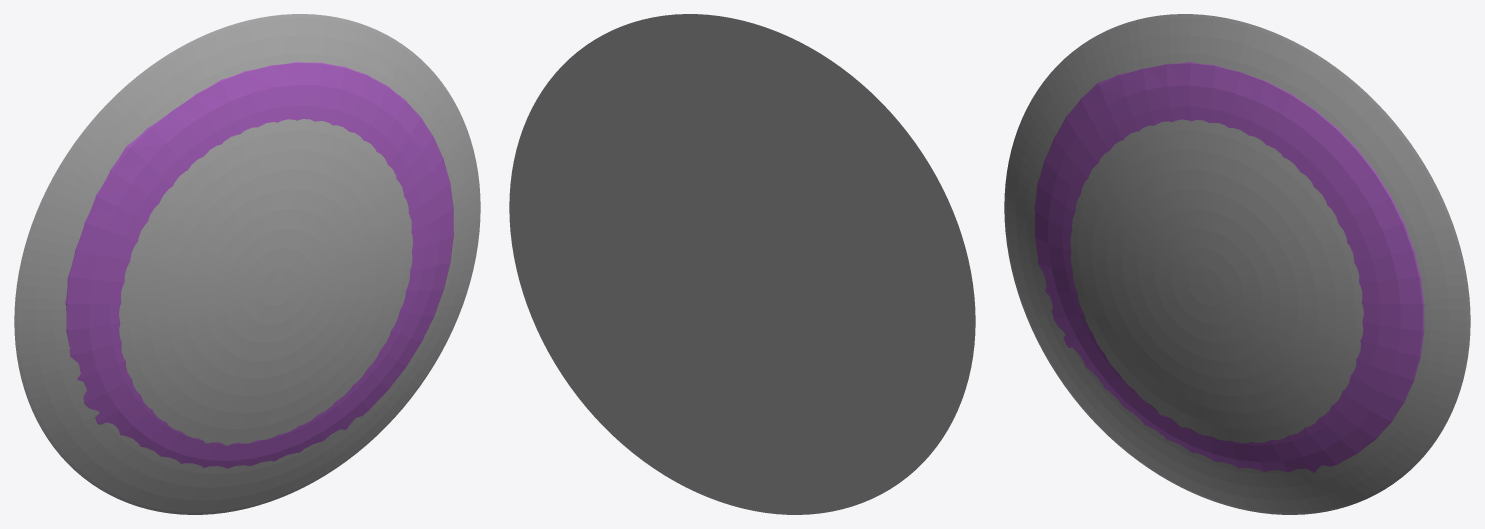
Rendered from G06_A2D_ALIGNED_GT.glb.
The picture shows the model from 3 angles, left to right: view 1: azimuth 30°, elevation 25°; view 2: azimuth 150°, elevation 25°; view 3: azimuth 330°, elevation 25°; orthographic projection.
Parts seen in each view (by area): view 1: Independent_GT, A2D; view 2: Independent_GT; view 3: Independent_GT, A2D.
Boxes of the visible parts, box(x1,y1,x2,y2) form: Independent_GT: box(14, 14, 480, 514); A2D: box(65, 62, 453, 468); Independent_GT: box(509, 14, 975, 514); Independent_GT: box(1004, 14, 1470, 514); A2D: box(1034, 62, 1424, 472).
Size of the model in its own units: 0.014 by 0.014 by 0.00164.
